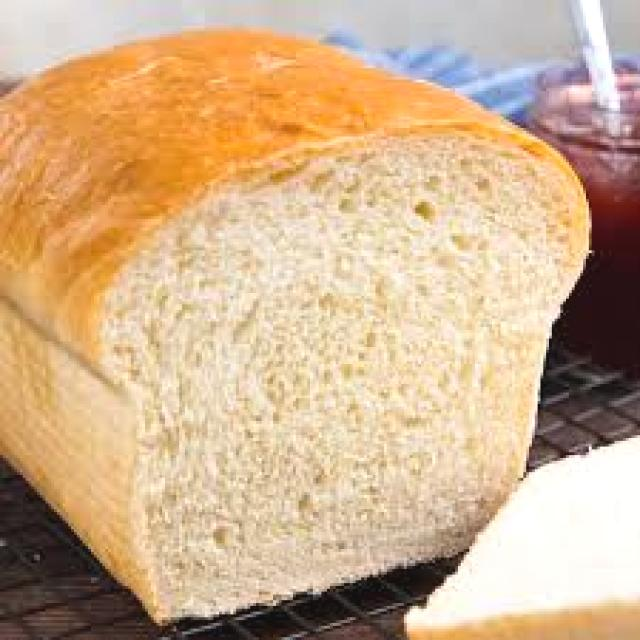organic: (13, 43, 533, 640)
